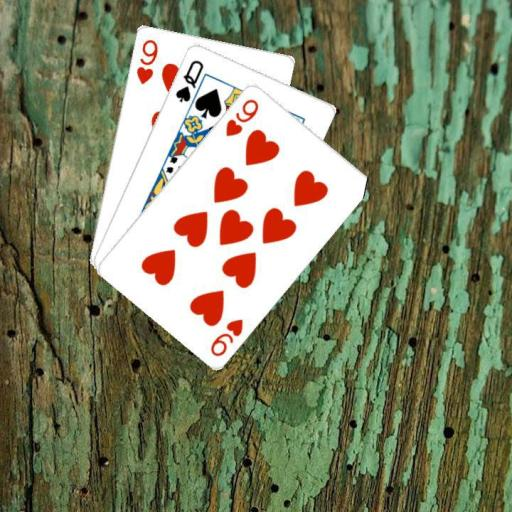9H: (222, 95, 260, 138), (207, 315, 245, 358), (133, 36, 160, 86)
QS: (172, 56, 206, 104)
